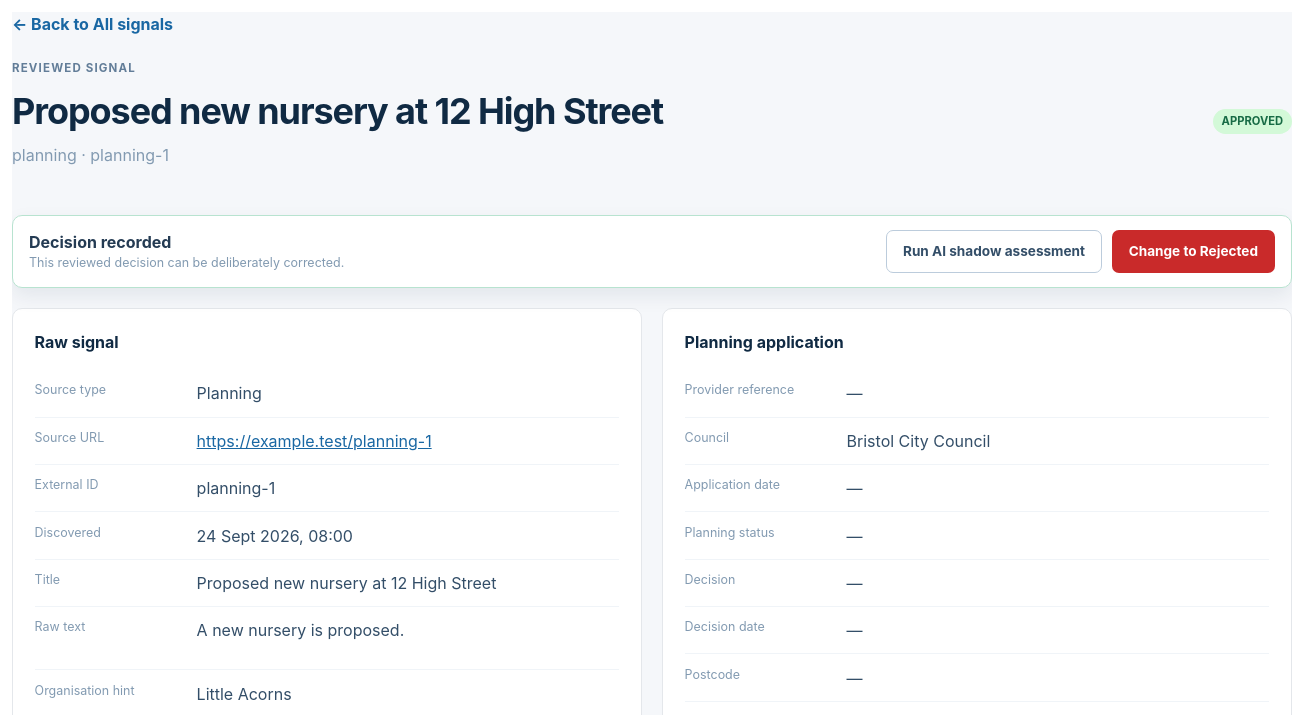
Test: admin frontend › supports correcting a reviewed decision with accurate feedback
Expected: the text "Decision recorded" is shown, [29,232,171,252]
Click the button "Change to Rejected" at point(1193, 251), box [1112,230,1275,273]
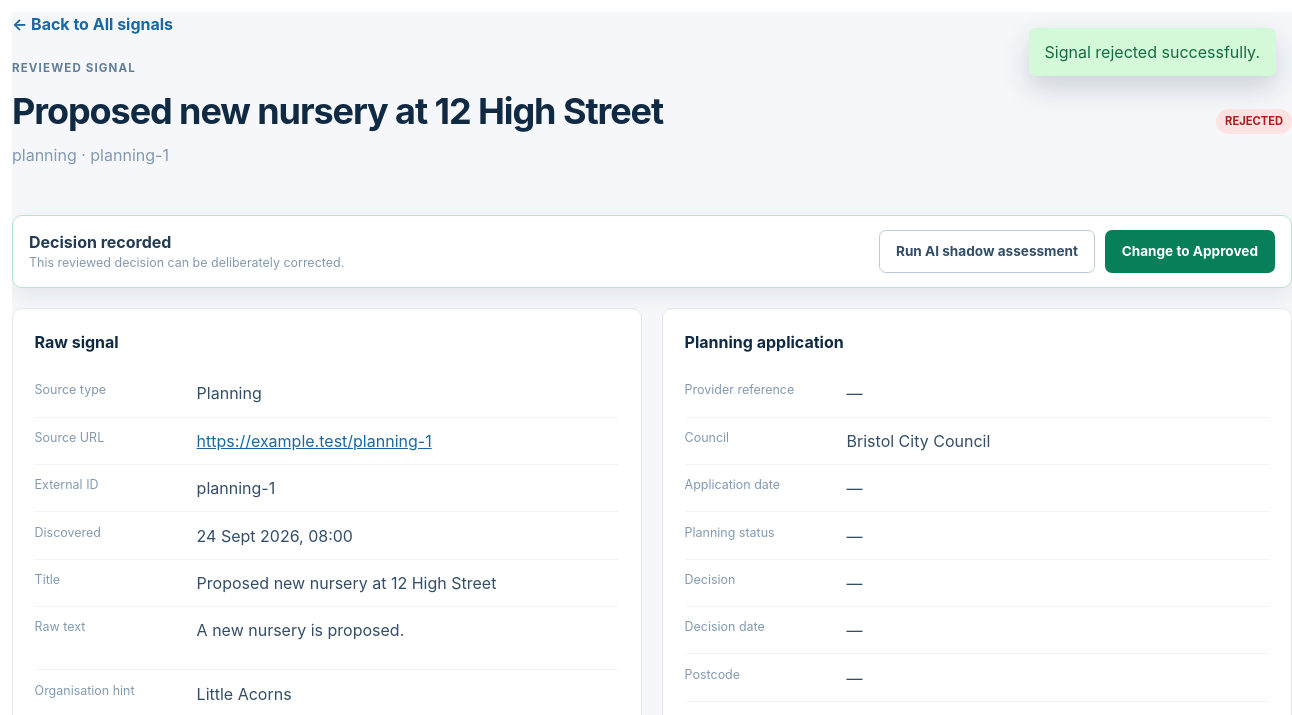
Expected: the message reads "Signal rejected successfully.", [1045,42,1260,62]
